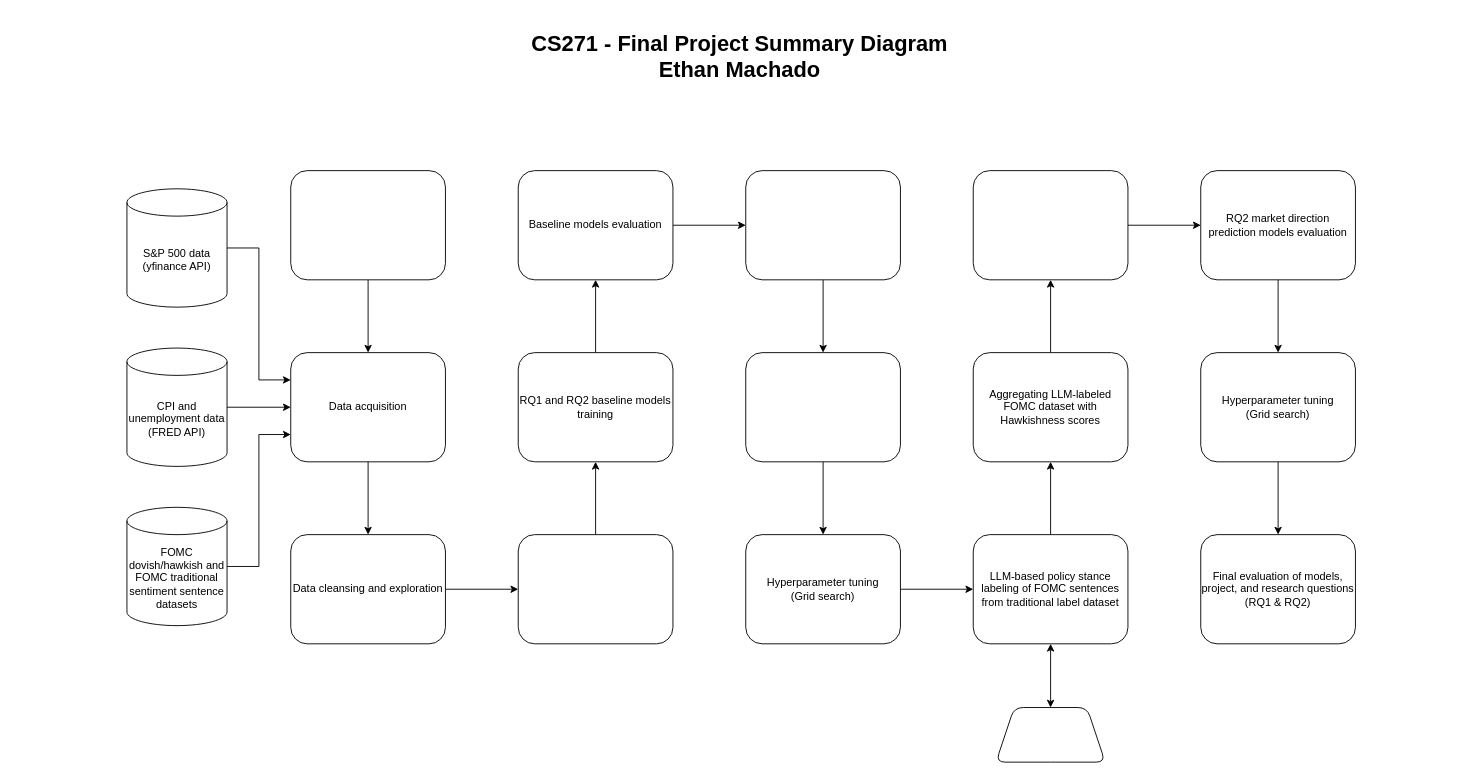
Some shapes in this 1478 by 778 pixel diagram are drawn without their labels. The shapes that lost their labels are listed below. From the top down, each one's centre as x and y in pixels, then its label:
At pixel 367 225: "Research questions formulation (RQ1 & RQ2)".
At pixel 822 225: "FOMC label classification models training (RQ1)".
At pixel 1050 225: "RQ2 market direction prediction models training".
At pixel 822 407: "RQ1 label classification models evaluation".
At pixel 595 589: "Splitting datasets (60/20/20)".
At pixel 1050 734: "Groq API (Free-tier)".
